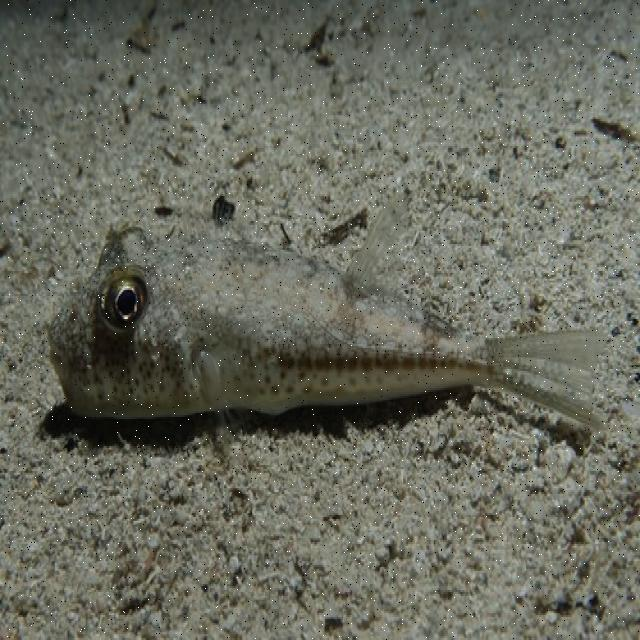Balik: (49, 202, 604, 426)
